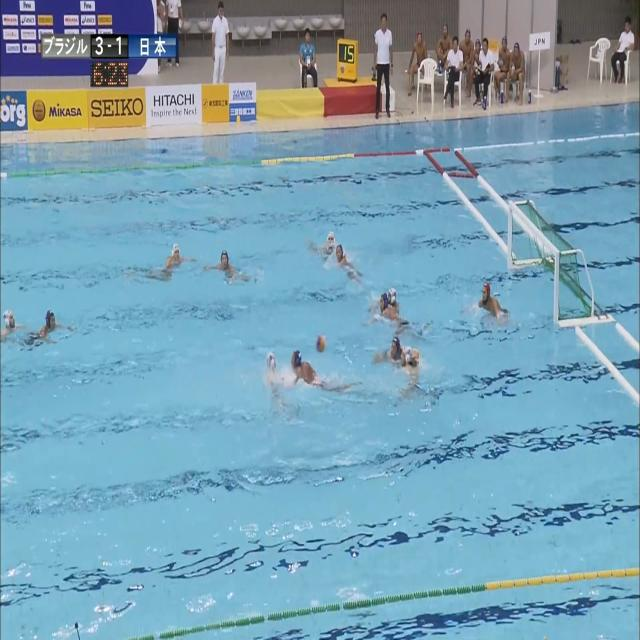ball: (317, 336, 325, 352)
